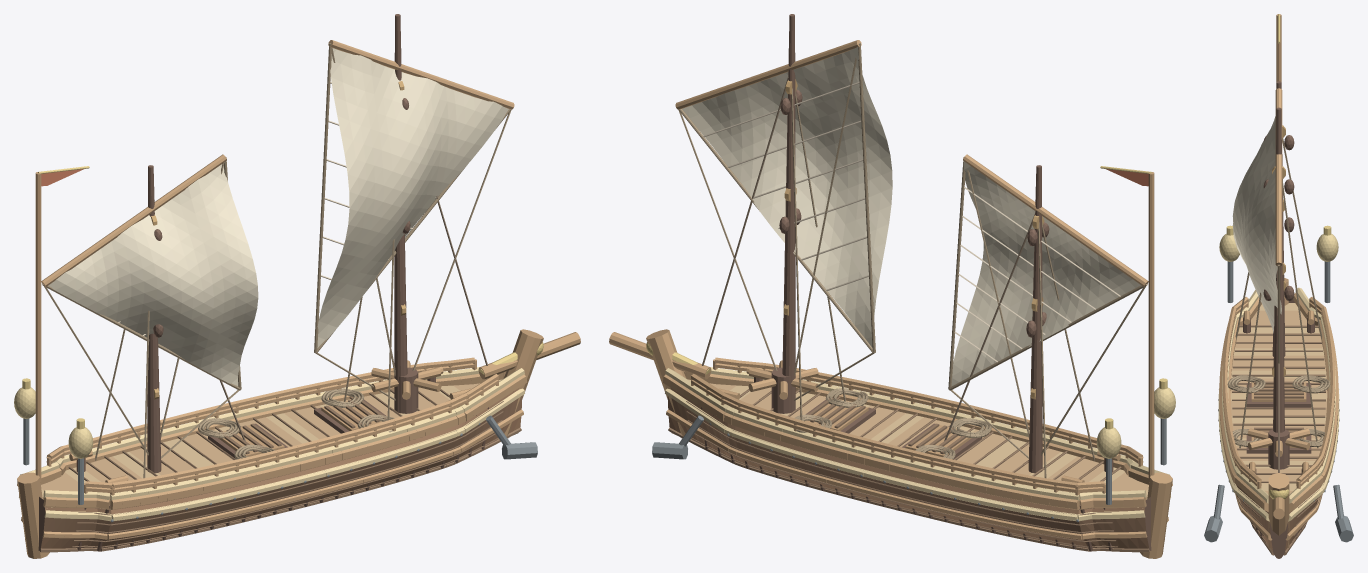
File: pattamar-v5.glb
3 views of the same model, side by side, from view 1: azimuth 30°, elevation 25°; view 2: azimuth 150°, elevation 25°; view 3: azimuth 270°, elevation 25° (orthographic). The views are drawn at different scales.
Visible parts, largest first — view 1: pattamar_sails_sail, pattamar_hull_wood, pattamar_hull_pale, pattamar_railings_wood, pattamar_hull_seam, pattamar_hull_hull, pattamar_hull_hull2, pattamar_hull_deck, pattamar_masts_darkwood, pattamar_rigging_rope, pattamar_rigging_wood, pattamar_fittings_wood (+9 smaller); view 2: pattamar_sails_sail, pattamar_hull_wood, pattamar_hull_pale, pattamar_railings_wood, pattamar_masts_darkwood, pattamar_rigging_rope, pattamar_hull_seam, pattamar_hull_hull, pattamar_hull_hull2, pattamar_hull_deck, pattamar_rigging_wood, pattamar_masts_rope (+11 smaller); view 3: pattamar_sails_sail, pattamar_hull_deck, pattamar_hull_wood, pattamar_hull_seam, pattamar_railings_wood, pattamar_hull_pale, pattamar_hull_decklight, pattamar_masts_darkwood, pattamar_fittings_iron, pattamar_fittings_wood, pattamar_fittings_darkwood, pattamar_masts_rope (+12 smaller).
Boxes of the visible parts, bbox=[...] form: pattamar_sails_sail: bbox=[48, 48, 508, 385]; pattamar_hull_wood: bbox=[17, 329, 580, 558]; pattamar_hull_pale: bbox=[19, 367, 524, 521]; pattamar_railings_wood: bbox=[46, 357, 498, 503]; pattamar_hull_seam: bbox=[25, 389, 521, 552]; pattamar_hull_hull: bbox=[39, 396, 522, 550]; pattamar_hull_hull2: bbox=[40, 388, 521, 548]; pattamar_hull_deck: bbox=[41, 383, 479, 491]; pattamar_masts_darkwood: bbox=[147, 14, 410, 473]; pattamar_rigging_rope: bbox=[42, 43, 511, 458]; pattamar_rigging_wood: bbox=[41, 40, 514, 287]; pattamar_fittings_wood: bbox=[69, 360, 471, 482]; pattamar_sails_sail: bbox=[682, 46, 1140, 385]; pattamar_hull_wood: bbox=[609, 329, 1172, 558]; pattamar_hull_pale: bbox=[665, 367, 1170, 521]; pattamar_railings_wood: bbox=[691, 357, 1143, 503]; pattamar_masts_darkwood: bbox=[779, 14, 1049, 473]; pattamar_rigging_rope: bbox=[678, 43, 1147, 458]; pattamar_hull_seam: bbox=[668, 389, 1164, 552]; pattamar_hull_hull: bbox=[667, 396, 1150, 550]; pattamar_hull_hull2: bbox=[668, 388, 1149, 548]; pattamar_hull_deck: bbox=[710, 383, 1148, 491]; pattamar_rigging_wood: bbox=[675, 40, 1148, 287]; pattamar_masts_rope: bbox=[791, 88, 1094, 488]; pattamar_sails_sail: bbox=[1232, 116, 1281, 333]; pattamar_hull_deck: bbox=[1230, 310, 1327, 494]; pattamar_hull_wood: bbox=[1219, 278, 1338, 547]; pattamar_hull_seam: bbox=[1232, 325, 1325, 555]; pattamar_railings_wood: bbox=[1222, 297, 1335, 488]; pattamar_hull_pale: bbox=[1218, 287, 1339, 521]; pattamar_hull_decklight: bbox=[1230, 303, 1327, 490]; pattamar_masts_darkwood: bbox=[1263, 81, 1294, 432]; pattamar_fittings_iron: bbox=[1204, 261, 1353, 542]; pattamar_fittings_wood: bbox=[1243, 310, 1314, 473]; pattamar_fittings_darkwood: bbox=[1243, 317, 1314, 474]; pattamar_masts_rope: bbox=[1235, 138, 1322, 448].
Size of the model in its own units: 41.11 by 31.94 by 10.7.
